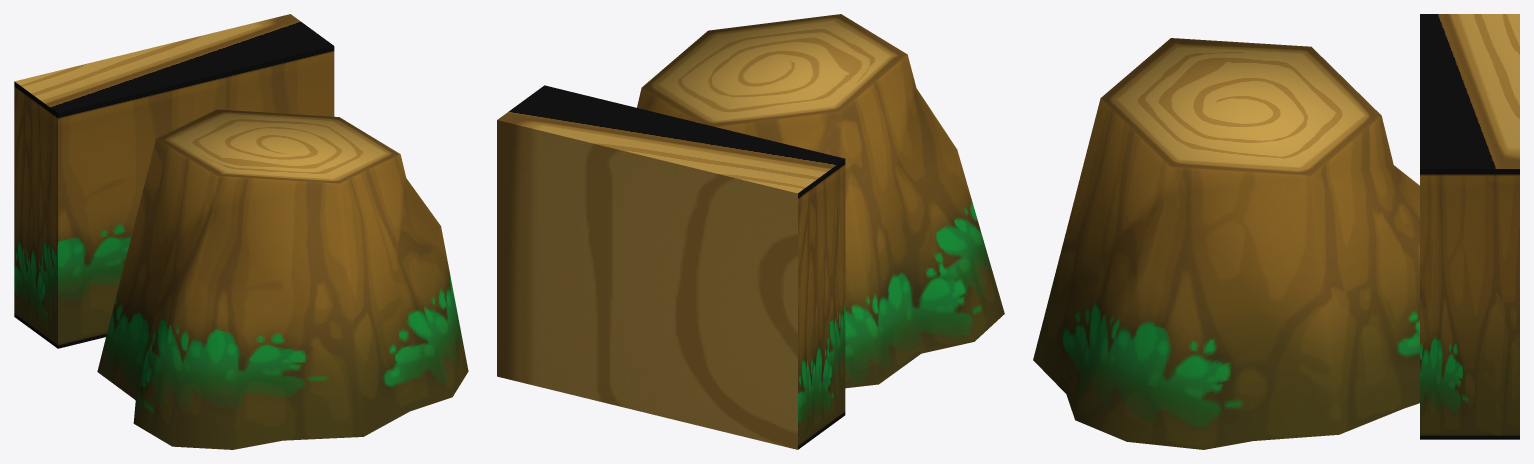
Rendered from STM_A.fbx.
3 renders of one model, left to right at view 1: azimuth 30°, elevation 25°; view 2: azimuth 150°, elevation 25°; view 3: azimuth 270°, elevation 25°, orthographic. The views are drawn at different scales.
Visible parts, largest first — view 1: stumpA, pCube1; view 2: pCube1, stumpA; view 3: stumpA, pCube1.
Boxes of the visible parts, bbox=[...] form: stumpA: bbox=[97, 109, 468, 449]; pCube1: bbox=[14, 14, 334, 348]; pCube1: bbox=[497, 85, 845, 449]; stumpA: bbox=[637, 14, 1004, 388]; stumpA: bbox=[1033, 38, 1419, 449]; pCube1: bbox=[1420, 14, 1519, 439].
Bounding box in the file's own units: 109 × 78.37 × 126.
